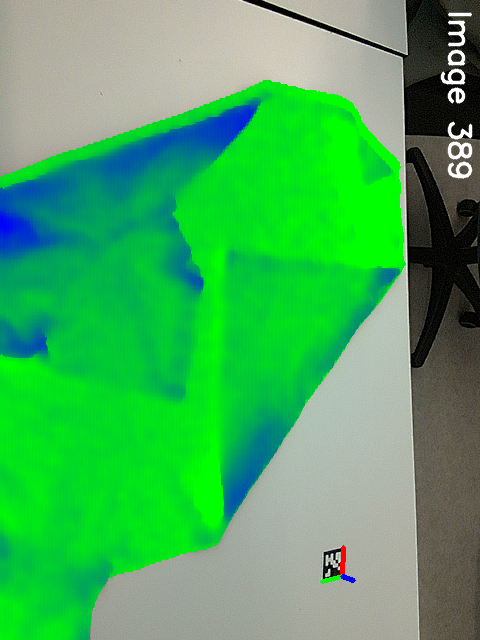V: (214, 233, 270, 286), (141, 358, 195, 405), (351, 156, 384, 194)
